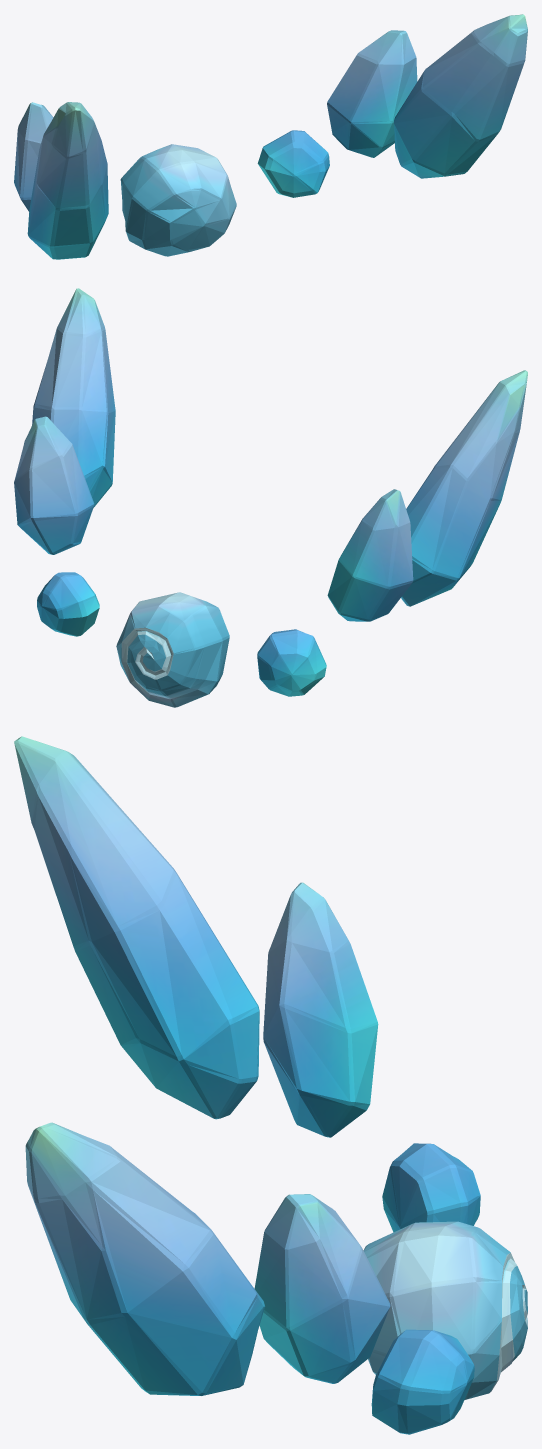
The model's file is CharSkyKid_Hat_AP32Pearl.glb.
3 views of the same model, one above another, from view 1: azimuth 30°, elevation 25°; view 2: azimuth 150°, elevation 25°; view 3: azimuth 270°, elevation 25° (orthographic). The views are drawn at different scales.
Visible parts, largest first — view 1: CharSkyKid_Hat_AP32Pearl; view 2: CharSkyKid_Hat_AP32Pearl; view 3: CharSkyKid_Hat_AP32Pearl.
Part boxes in pixels (<box>): CharSkyKid_Hat_AP32Pearl: <box>14,14,527,259</box>; CharSkyKid_Hat_AP32Pearl: <box>14,288,527,707</box>; CharSkyKid_Hat_AP32Pearl: <box>14,736,527,1434</box>.
Bounding box in the file's own units: 2.97 × 1.81 × 1.76.
1 material, 1 textured.
